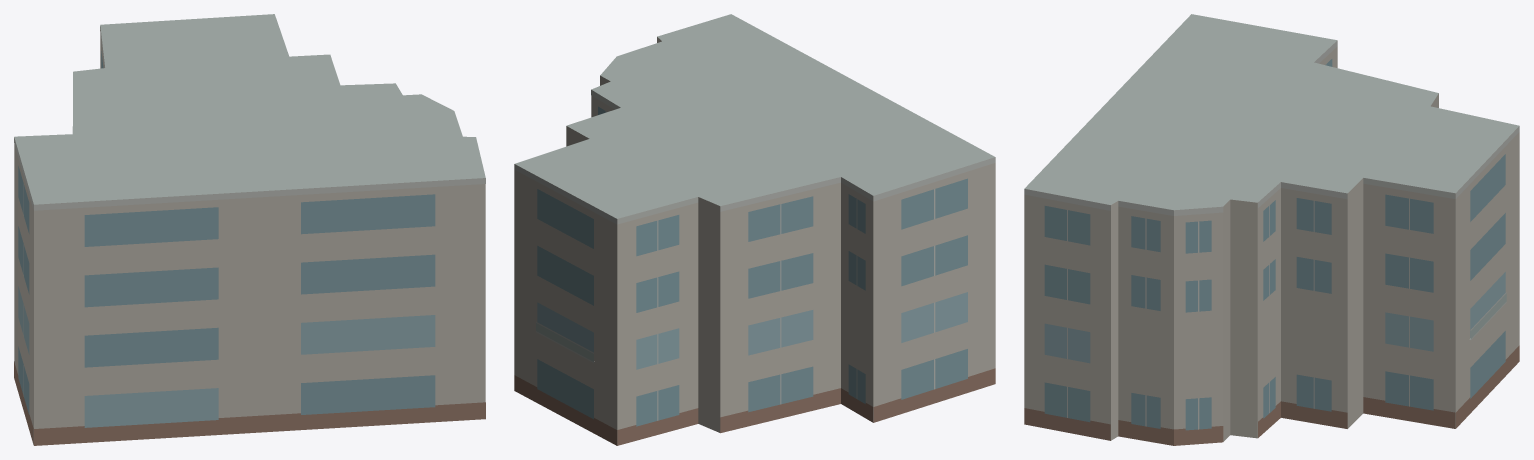
Rendered from survey-upis-32600906.glb.
The picture shows the model from 3 angles, left to right: view 1: azimuth 30°, elevation 25°; view 2: azimuth 150°, elevation 25°; view 3: azimuth 270°, elevation 25°; orthographic projection. The views are drawn at different scales.
Parts seen in each view (by area): view 1: survey-upis-32600906.tmp; view 2: survey-upis-32600906.tmp; view 3: survey-upis-32600906.tmp.
Part boxes in pixels (<box>): survey-upis-32600906.tmp: <box>14,14,485,445</box>; survey-upis-32600906.tmp: <box>514,14,995,445</box>; survey-upis-32600906.tmp: <box>1024,14,1519,445</box>.
Size of the model in its own units: 17.51 by 9.8 by 18.68.
